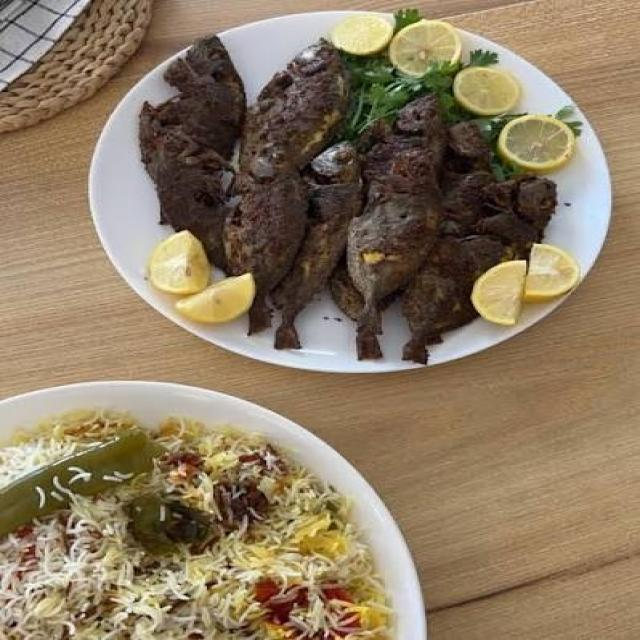Fried Fish: (114, 31, 608, 360)
